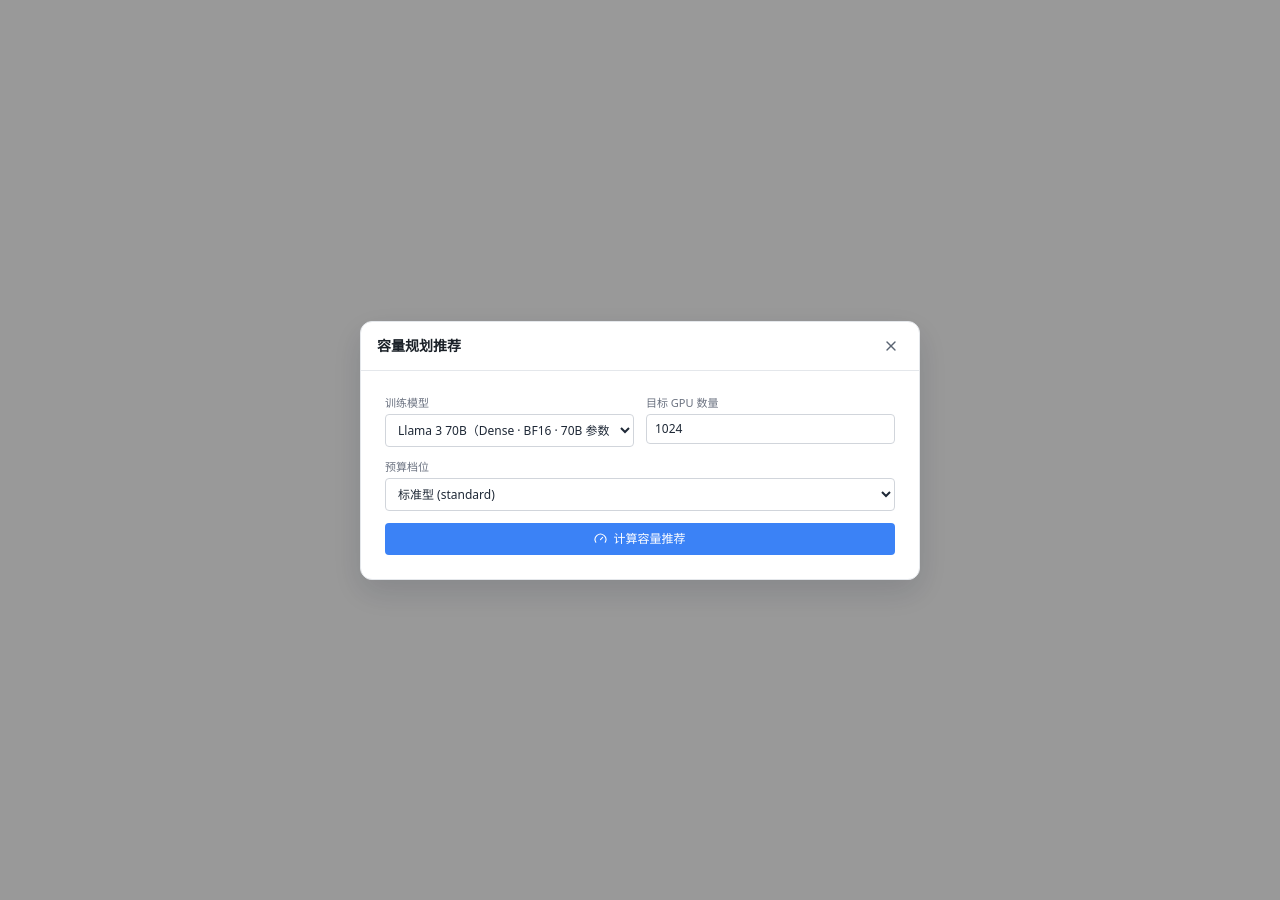
Test: CapacityRecommendModal › 计算推荐 → 渲染协议/速率/收敛比
This screenshot has width=1280, height=900.
What coordinates should you click on to do the following:
click the button "计算容量推荐"
I would click on:
 (640, 538)
Its box is 385,522 -> 895,554.
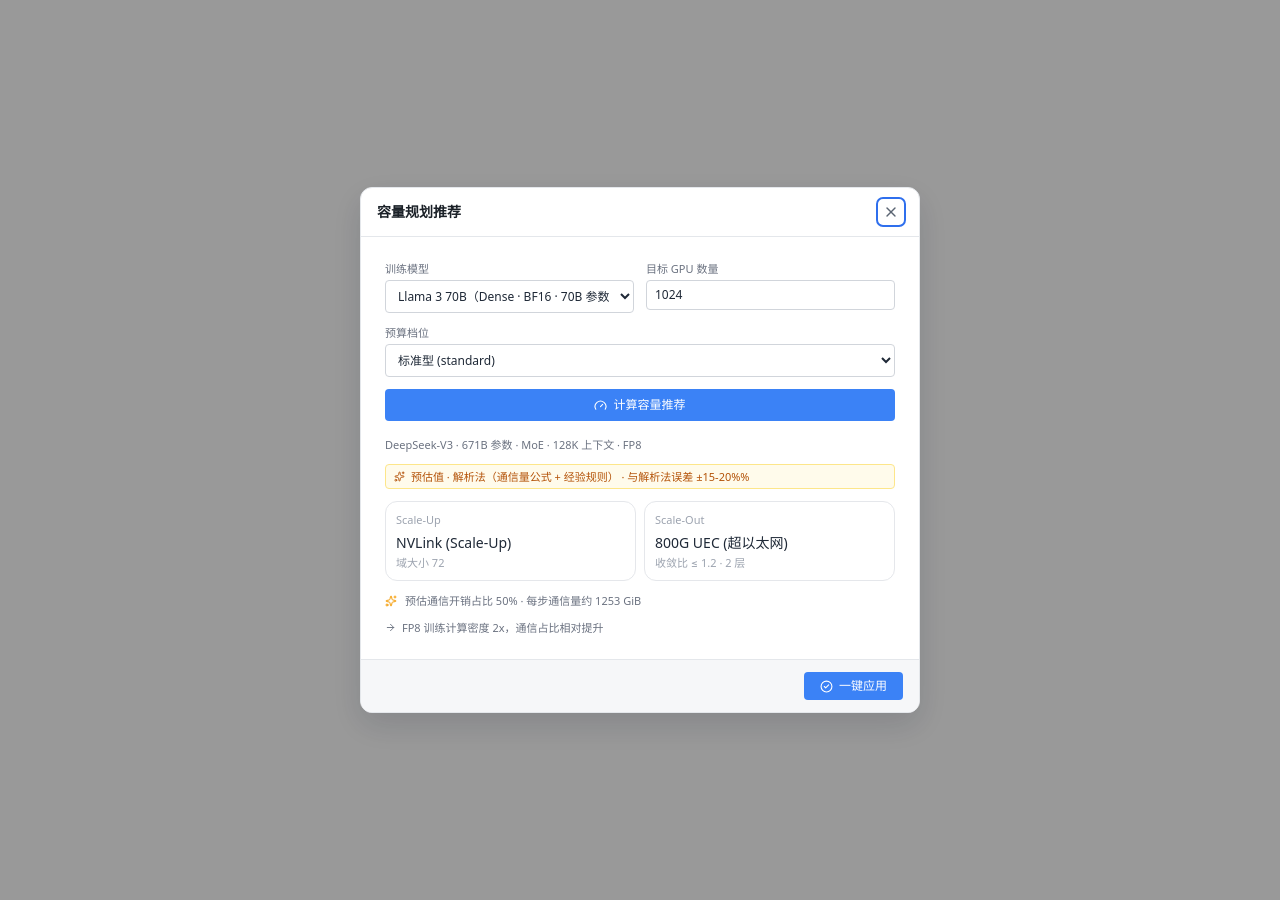
Result: the text "800G UEC (超以太网)" is shown at 655,533 -> 788,552
Result: the text "收敛比 ≤ 1.2 · 2 层" is shown at 655,555 -> 745,570
Result: the text "NVLink (Scale-Up)" is shown at 396,533 -> 511,552
